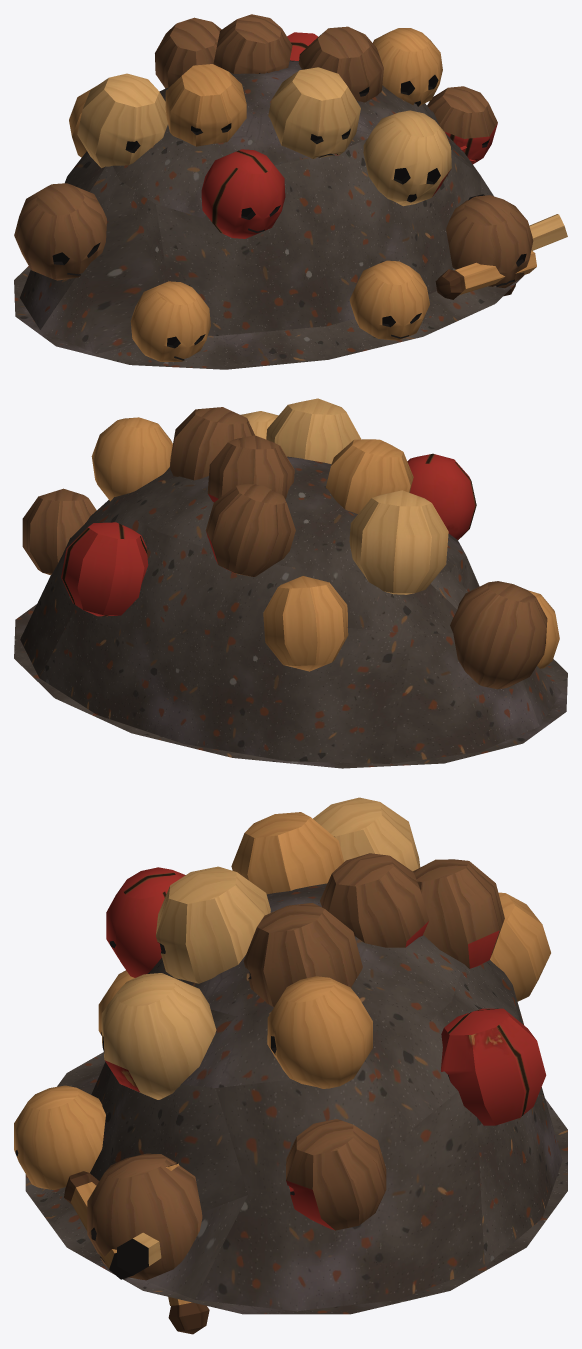
File: Puppet_Head_Pile.glb
3 views of the same model, one above another, from view 1: azimuth 30°, elevation 25°; view 2: azimuth 150°, elevation 25°; view 3: azimuth 270°, elevation 25° (orthographic). The views are drawn at different scales.
Visible parts, largest first — view 1: Puppet_Head_Pile; view 2: Puppet_Head_Pile; view 3: Puppet_Head_Pile.
Boxes of the visible parts, left/top/right/bottom form: Puppet_Head_Pile: left=14, top=14, right=567, bottom=369; Puppet_Head_Pile: left=14, top=398, right=567, bottom=768; Puppet_Head_Pile: left=14, top=797, right=567, bottom=1334.
Bounding box in the file's own units: 1.77 × 0.9464 × 1.33.
7 materials, 6 textured.
